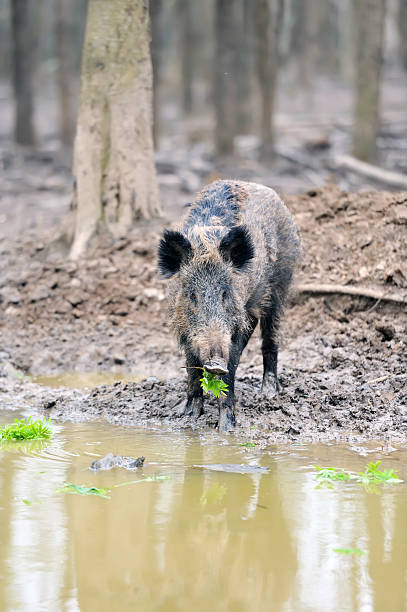pig: (161, 197, 276, 383)
